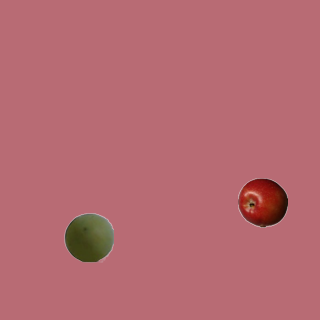Apple Braeburn: (237, 177, 287, 227)
Grape White 4: (63, 212, 113, 262)
